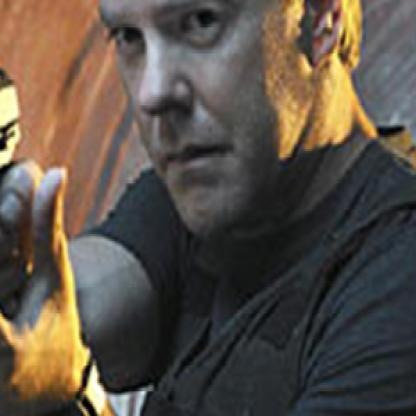gun: (0, 50, 38, 304)
